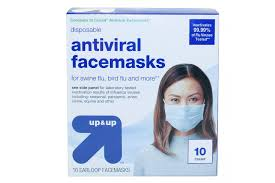mask: (154, 100, 208, 132)
